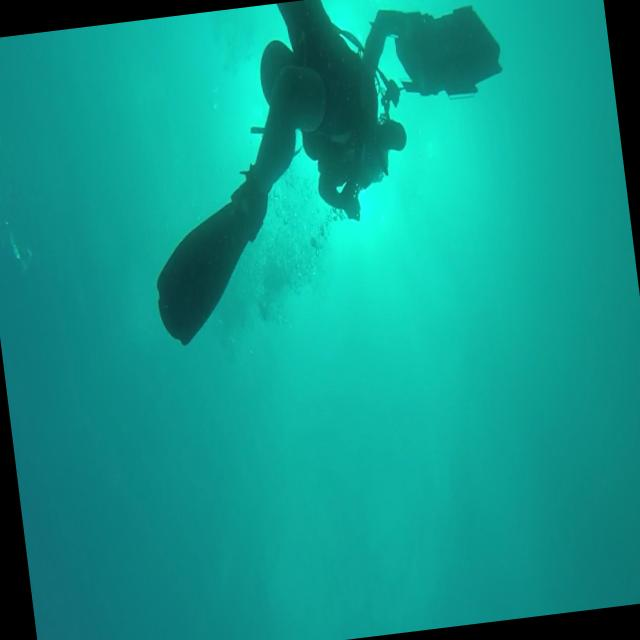human: (123, 0, 532, 350)
